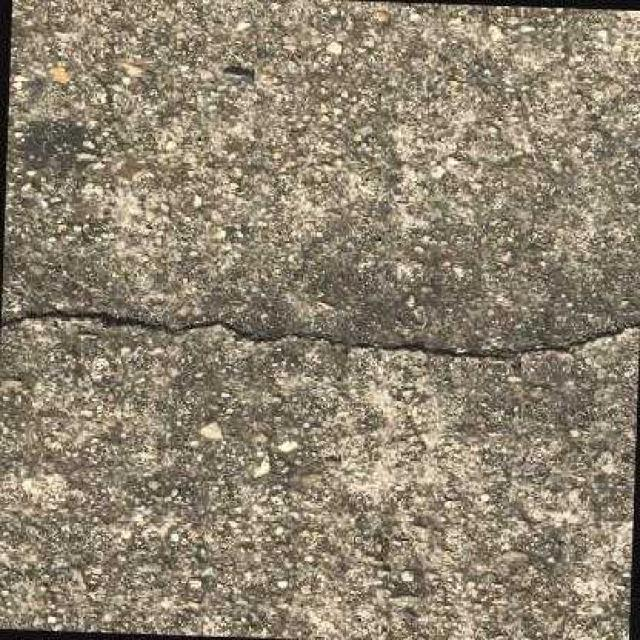D00: (24, 309, 640, 364)
